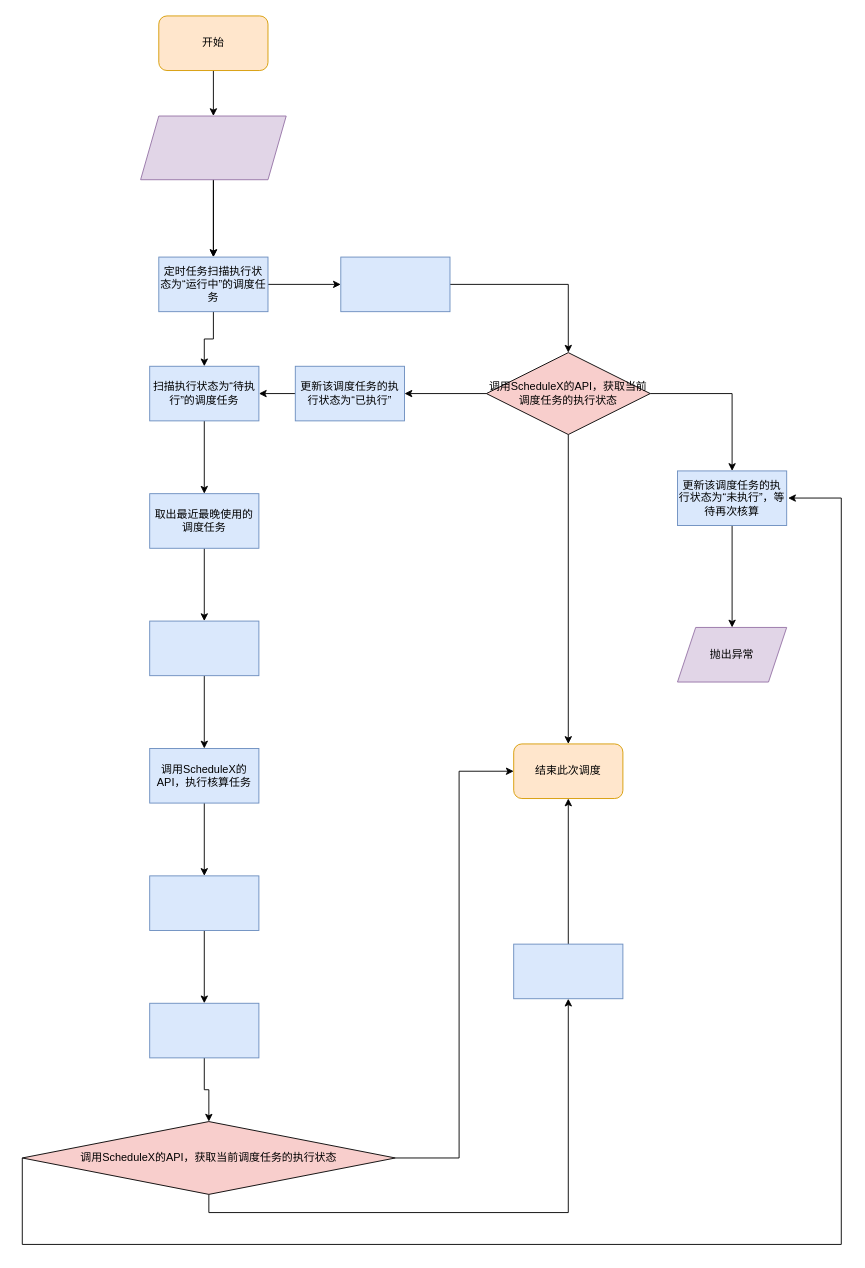
This 865x1268 diagram has some shape labels left out. The box of each missing label's shape, as (x1, y1, x2, y2) in pixels:
更新当前调度任务的实例ID、executeJobTs: (149, 1002, 259, 1058)
更新当前调度任务的执行状态为“已执行”: (513, 943, 623, 999)
更新当前调度任务的执行状态为“运行中”: (149, 875, 259, 930)
获取调度任务列表: (340, 256, 450, 312)
调用ScheduleX的API，根据jobId更新该条核算任务的参数: (149, 620, 259, 676)
通过村小二工作台进行操作，开始核算: (140, 115, 286, 180)
